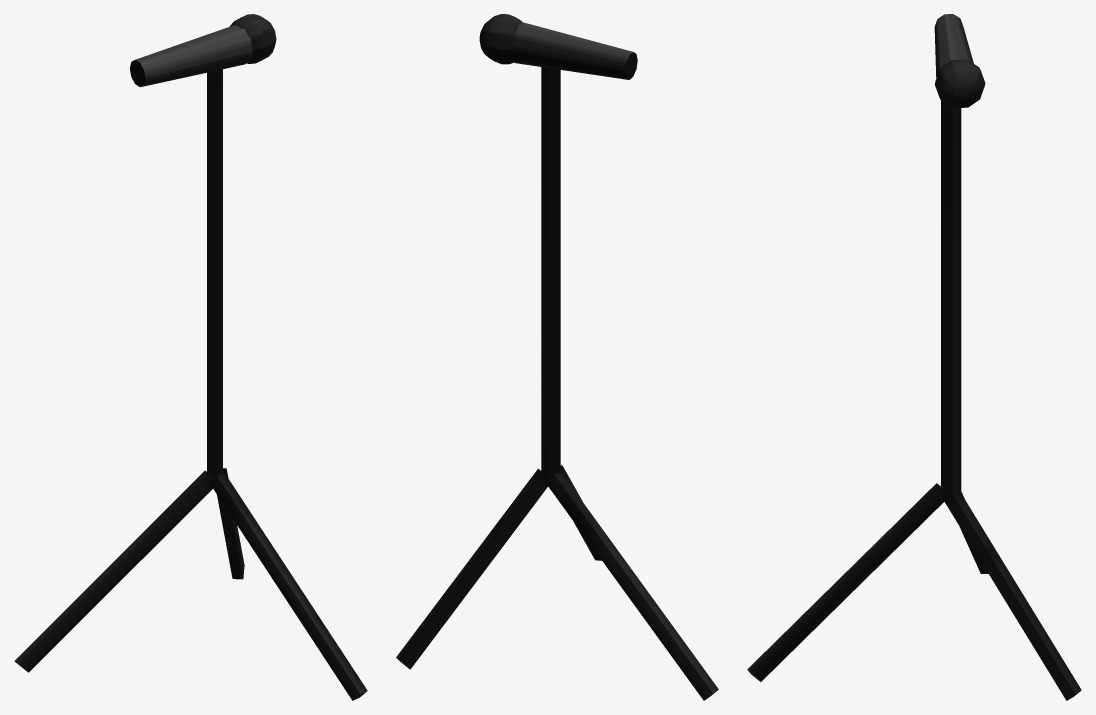
File: Tx_Props_MicrophoneStand_MusicDept.fbx
The picture shows the model from 3 angles, left to right: view 1: azimuth 30°, elevation 25°; view 2: azimuth 150°, elevation 25°; view 3: azimuth 270°, elevation 25°; orthographic projection.
Parts seen in each view (by area): view 1: Tx_Props_MicrophoneStand_MusicDept; view 2: Tx_Props_MicrophoneStand_MusicDept; view 3: Tx_Props_MicrophoneStand_MusicDept.
Part boxes in pixels (<box>): Tx_Props_MicrophoneStand_MusicDept: <box>14,14,367,700</box>; Tx_Props_MicrophoneStand_MusicDept: <box>396,14,718,700</box>; Tx_Props_MicrophoneStand_MusicDept: <box>747,14,1081,700</box>.
Size of the model in its own units: 4.23 by 9.1 by 4.47.
